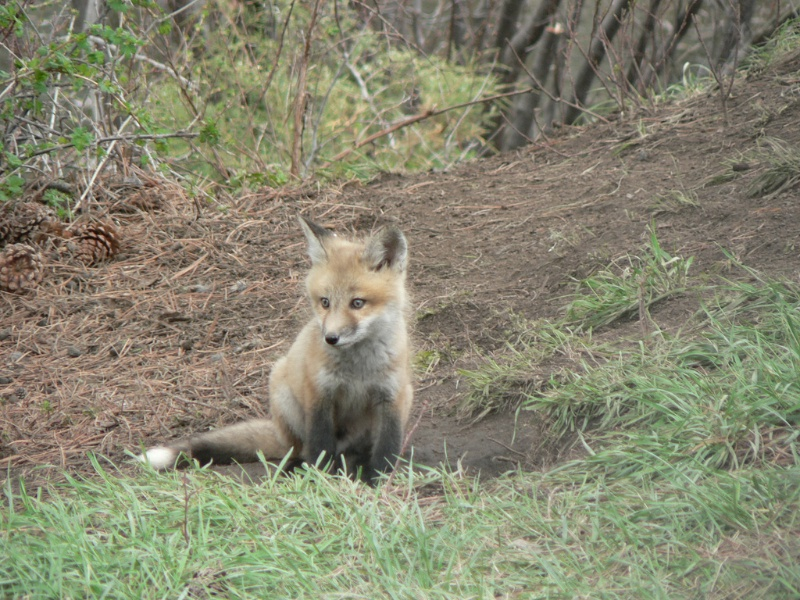fox: (138, 215, 414, 482)
